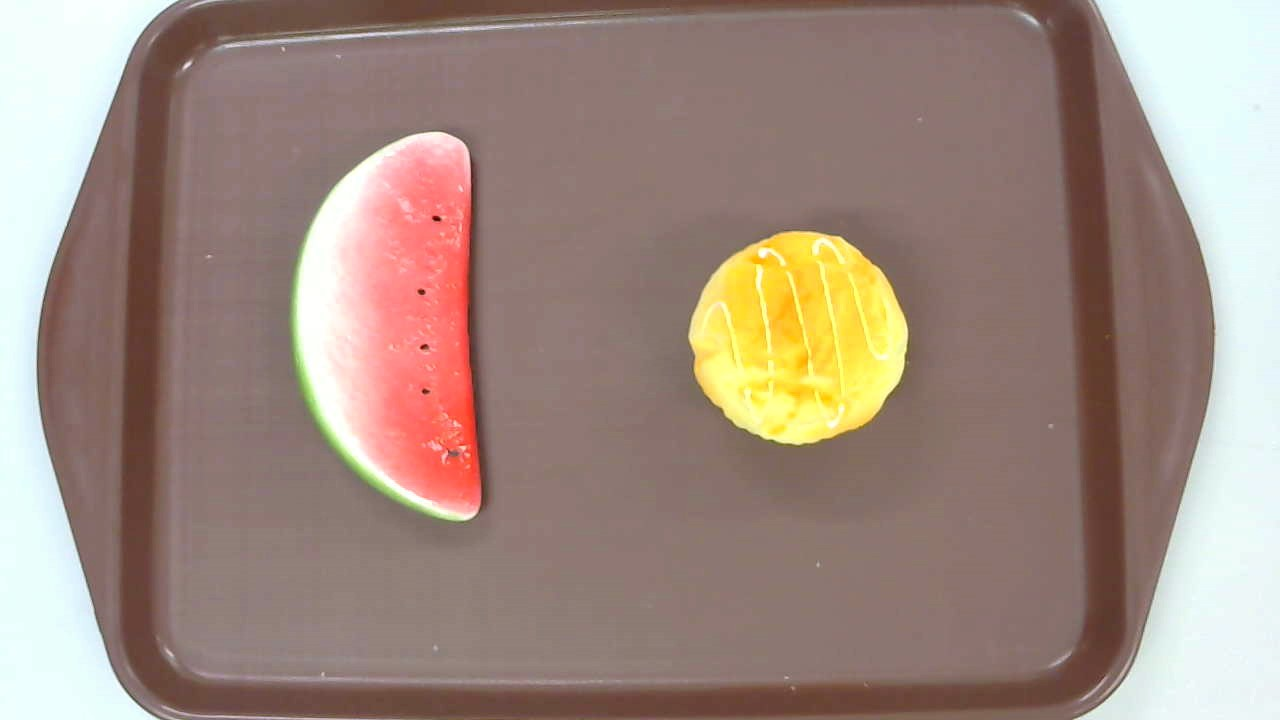cupcake: (688, 230, 908, 445)
water melon: (288, 131, 483, 523)
